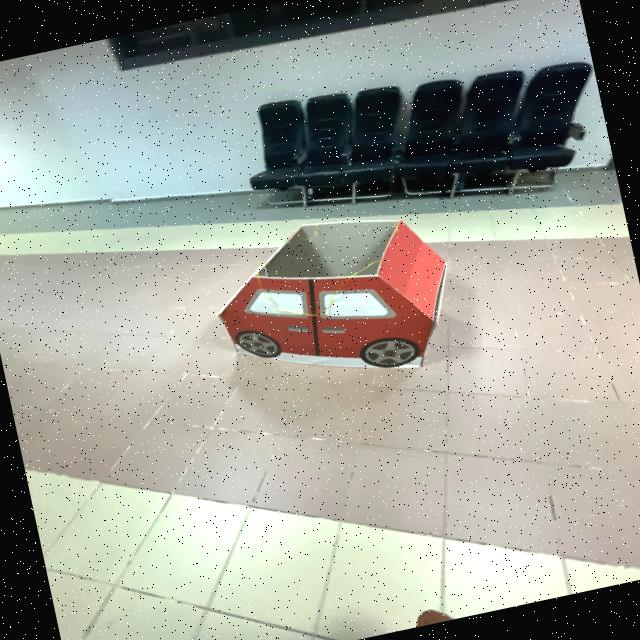red_car: (189, 190, 478, 411)
